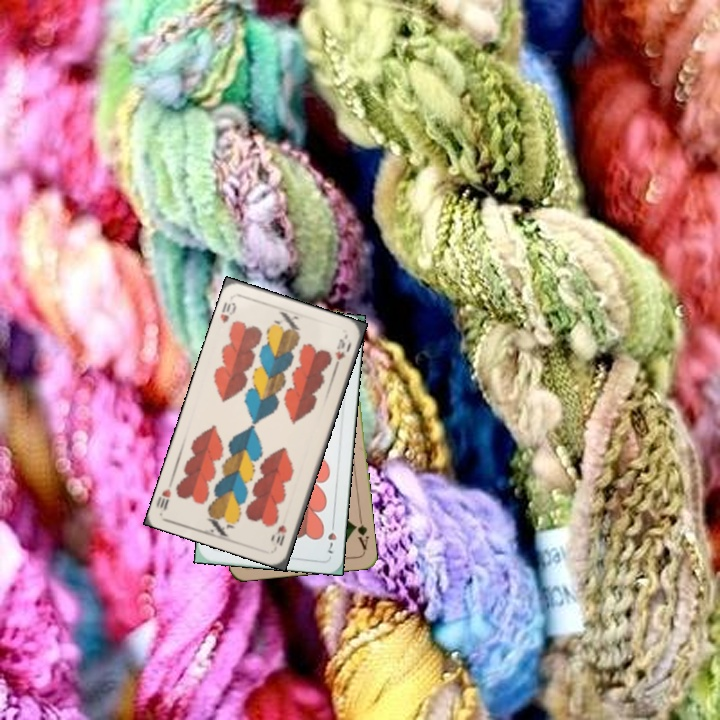GA: (350, 513, 371, 552)
H10: (216, 298, 239, 326), (272, 521, 289, 549)
H7: (324, 517, 339, 556)
